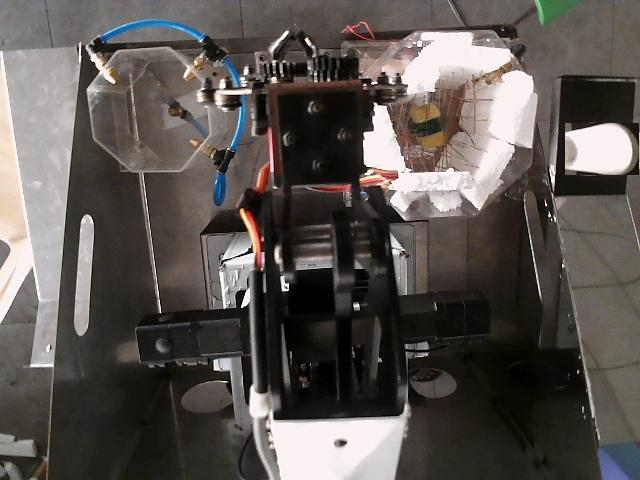cup: (565, 123, 639, 175)
